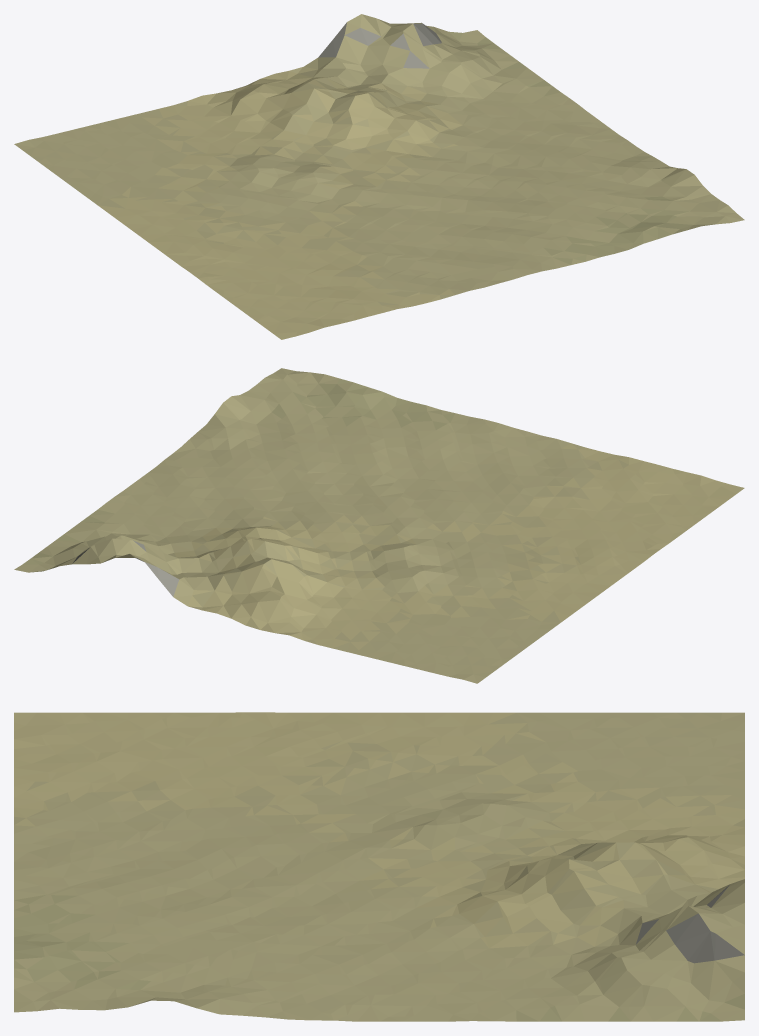
Rendered from Ground_-1_5.glb.
3 views of the same model, one above another, from view 1: azimuth 30°, elevation 25°; view 2: azimuth 150°, elevation 25°; view 3: azimuth 270°, elevation 25° (orthographic). The views are drawn at different scales.
Visible parts, largest first — view 1: Ground_-1_5; view 2: Ground_-1_5; view 3: Ground_-1_5.
Part boxes in pixels (x1,y1,x2,y2): Ground_-1_5: (14, 14, 744, 339); Ground_-1_5: (14, 368, 744, 683); Ground_-1_5: (14, 712, 744, 1021).
Size of the model in its own units: 768 by 71.78 by 768.
